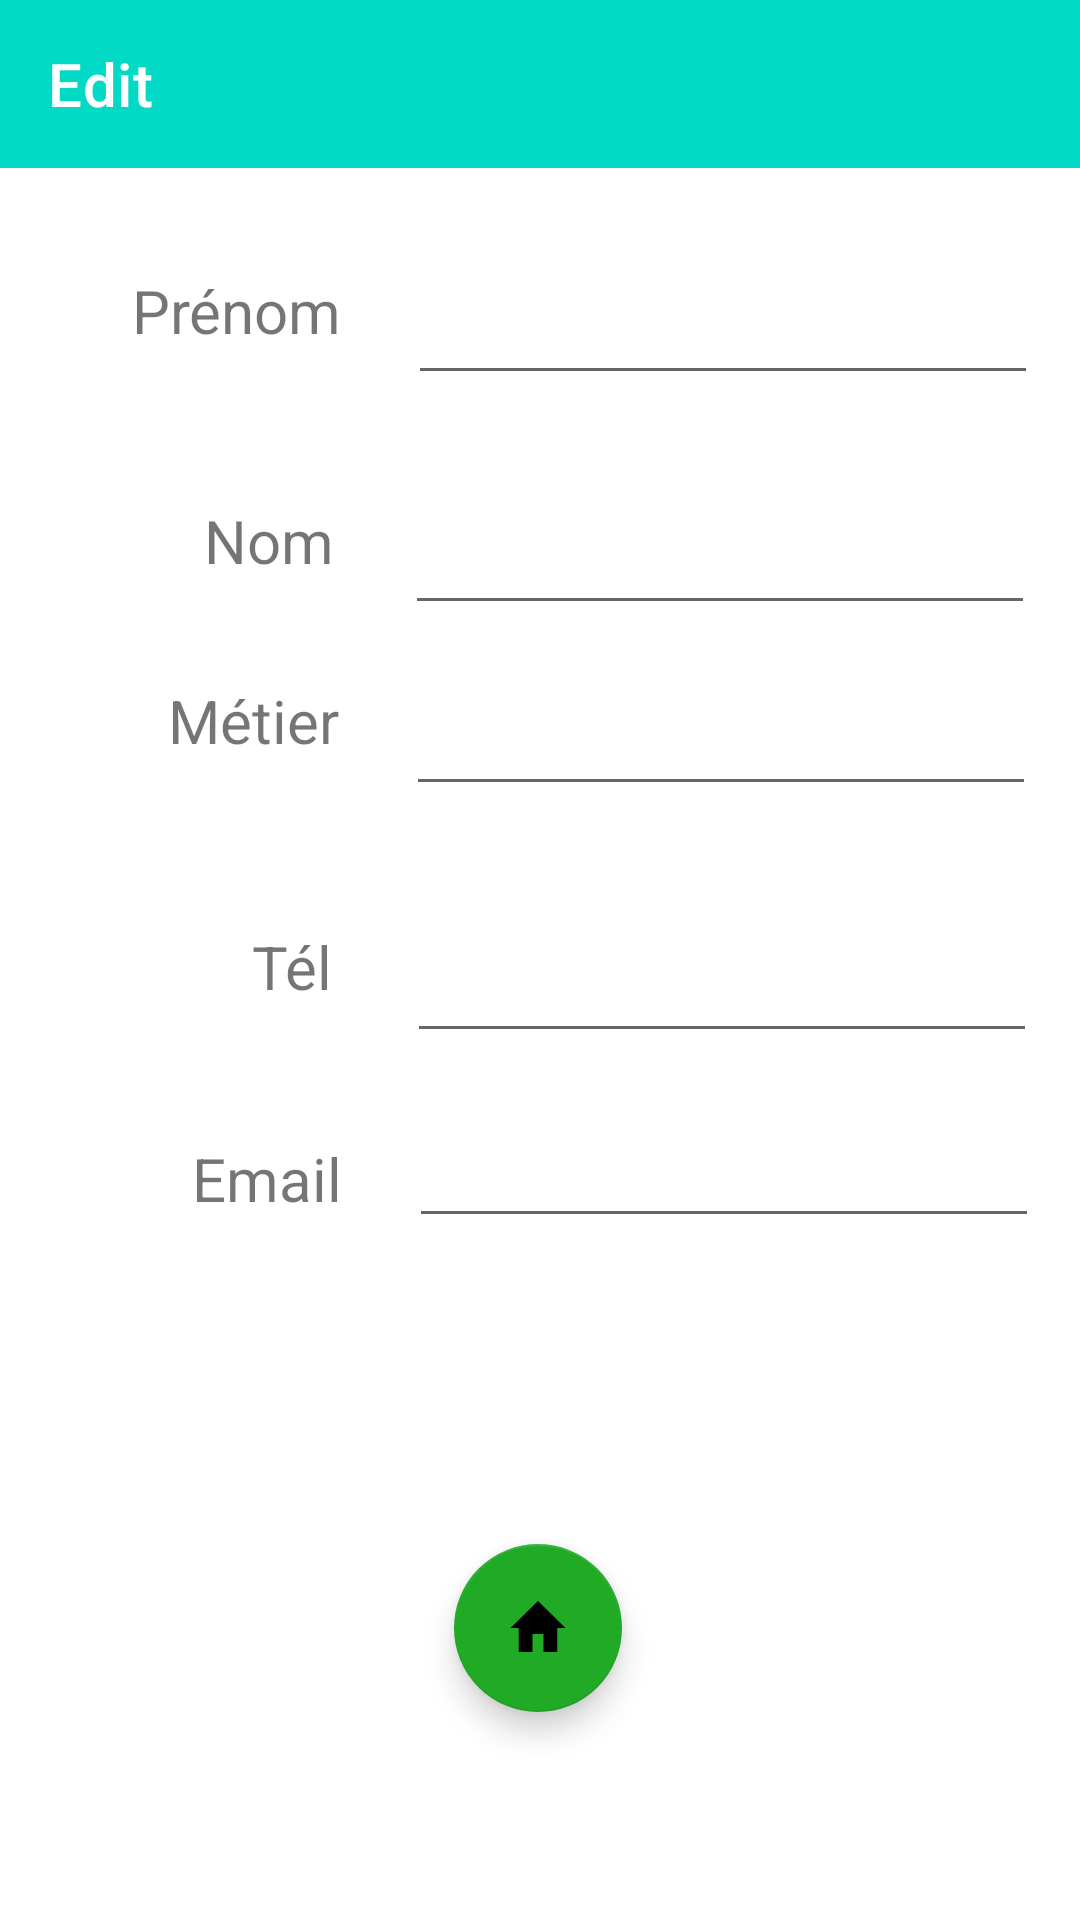

Named icons in this screenshot (1080 × 1920) and their bounding boxes, (x1, y1, x2, y2):
home: (454, 1544, 622, 1712)
